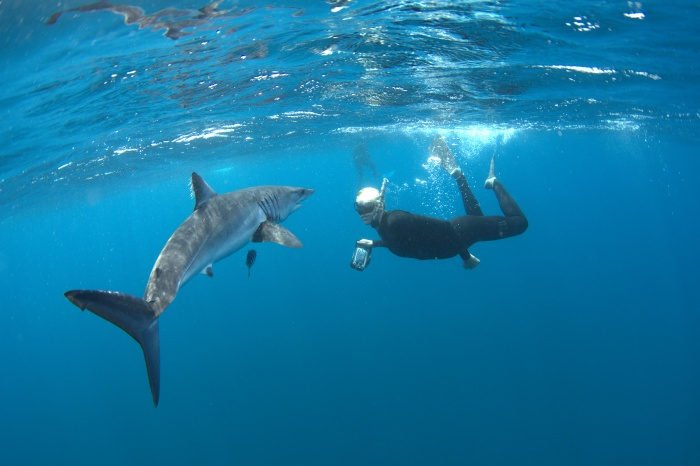Mako: (59, 163, 328, 412)
